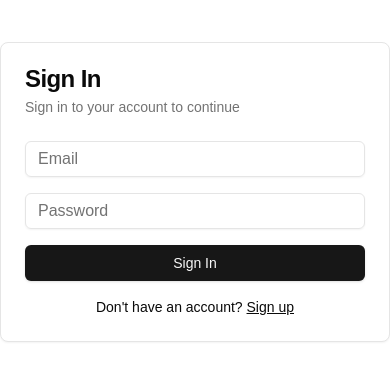
Test: LoginPage › displays error when sign in fails with error response
This screenshot has width=390, height=385.
Type "bad@example.com" into the field with placeholder "Email" at coordinates (195, 159), box x1=25 y1=141 x2=365 y2=177
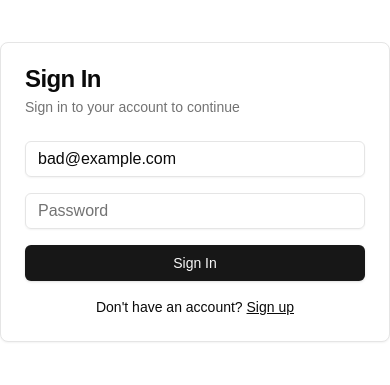
Type "wrong" into the password field with placeholder "Password" at coordinates (195, 211), box x1=25 y1=193 x2=365 y2=229
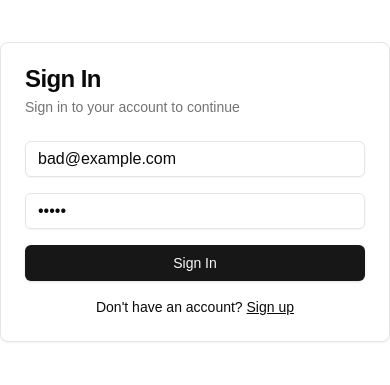
Submit the form with placeholder "Email", box x1=25 y1=141 x2=365 y2=281
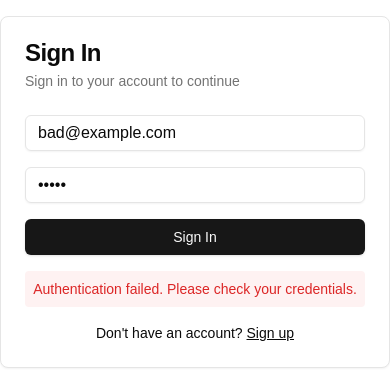
Now the text "Authentication failed. Please check your credentials." is shown, box x1=25 y1=271 x2=365 y2=307
